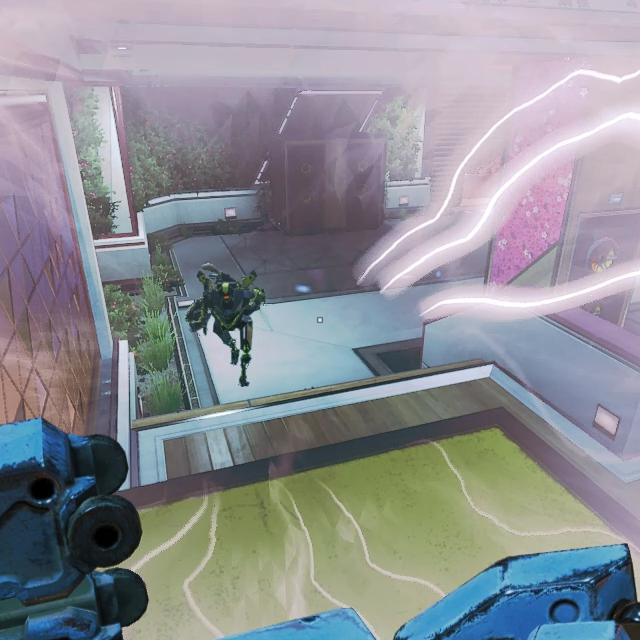avatar: (184, 261, 268, 388)
